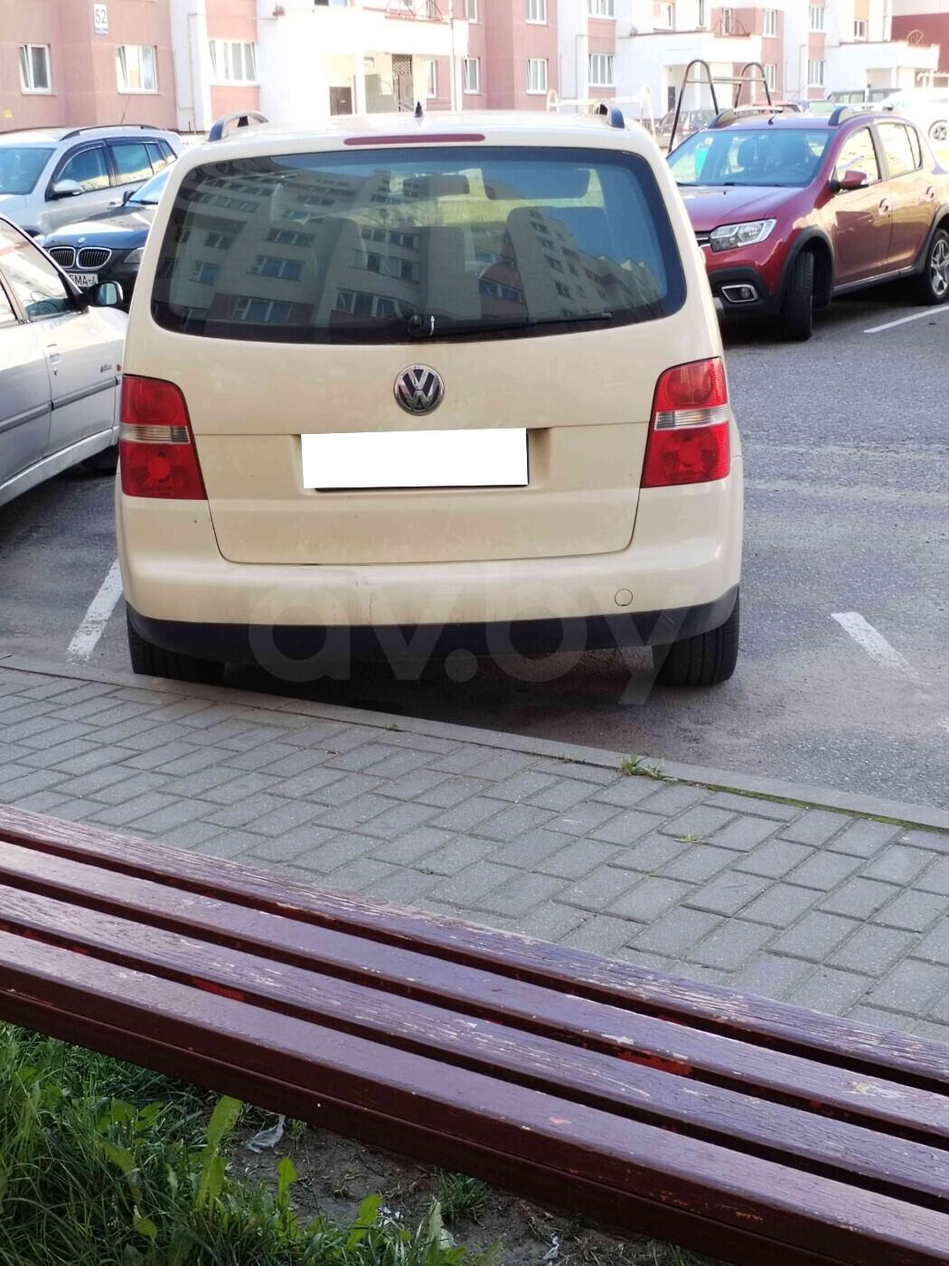Touran_2003-2006: (110, 114, 750, 707)
